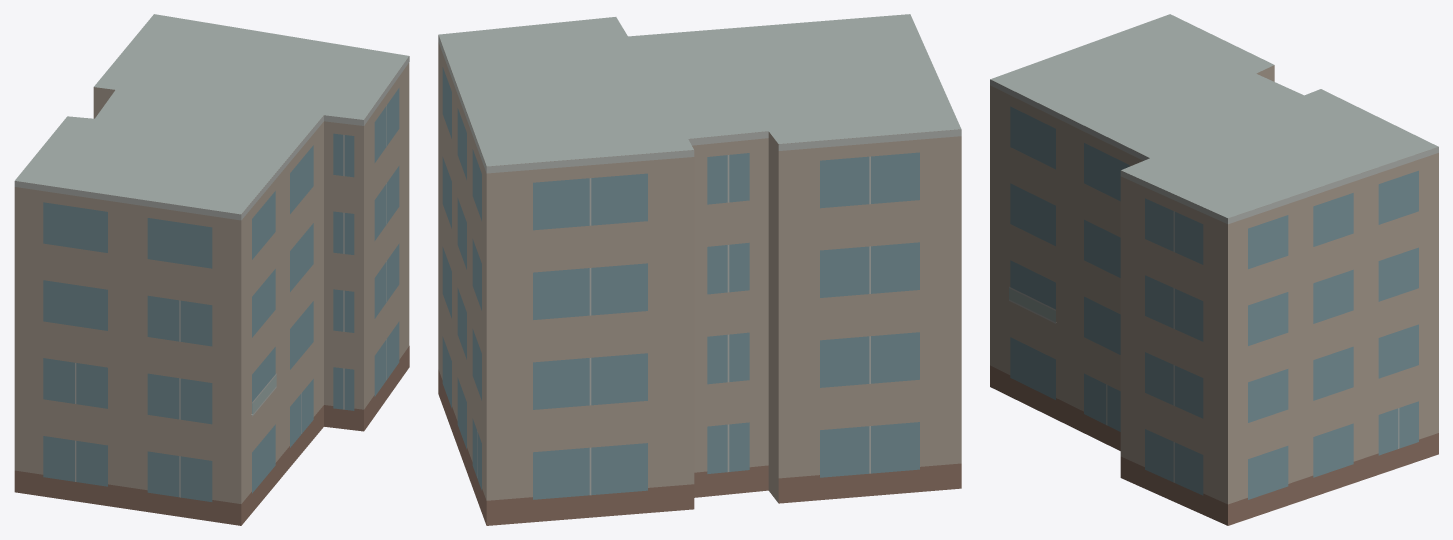
File: survey-upis-32636583.glb
3 views of the same model, side by side, from view 1: azimuth 30°, elevation 25°; view 2: azimuth 150°, elevation 25°; view 3: azimuth 270°, elevation 25° (orthographic). The views are drawn at different scales.
Parts seen in each view (by area): view 1: survey-upis-32636583.tmp; view 2: survey-upis-32636583.tmp; view 3: survey-upis-32636583.tmp.
Boxes of the visible parts, bbox=[...] form: survey-upis-32636583.tmp: bbox=[14, 14, 409, 525]; survey-upis-32636583.tmp: bbox=[438, 14, 961, 525]; survey-upis-32636583.tmp: bbox=[990, 14, 1438, 525].
Bounding box in the file's own units: 17.82 × 12.5 × 16.54.
